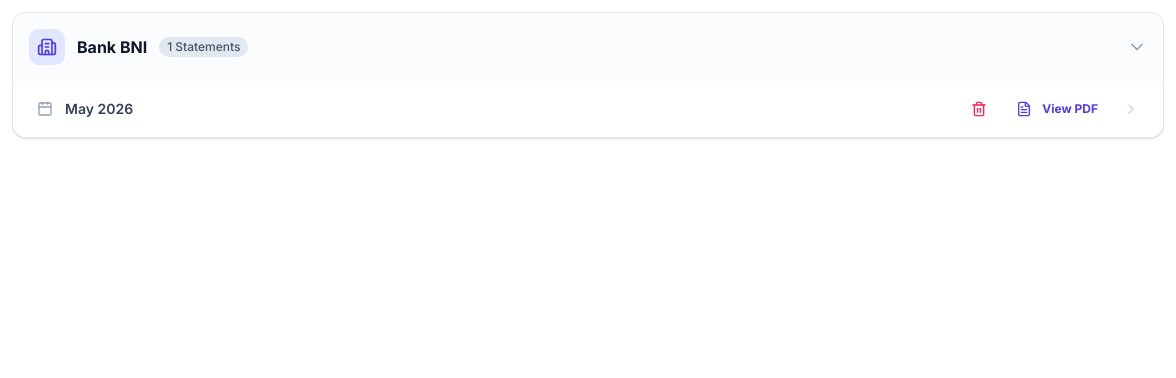
Test: BankStatementList Component › opens edit dialog when edit button is clicked
Check: the heading "Bank BNI" is shown, box x1=77 y1=35 x2=147 y2=59
Check: the text "May 2026" is shown, box x1=65 y1=99 x2=133 y2=119
// Expand the period to show items
What coordinates should you click on to do the following:
click the button "May 2026"
I would click on:
 (99, 108)
Its box is x1=37 y1=99 x2=963 y2=119.
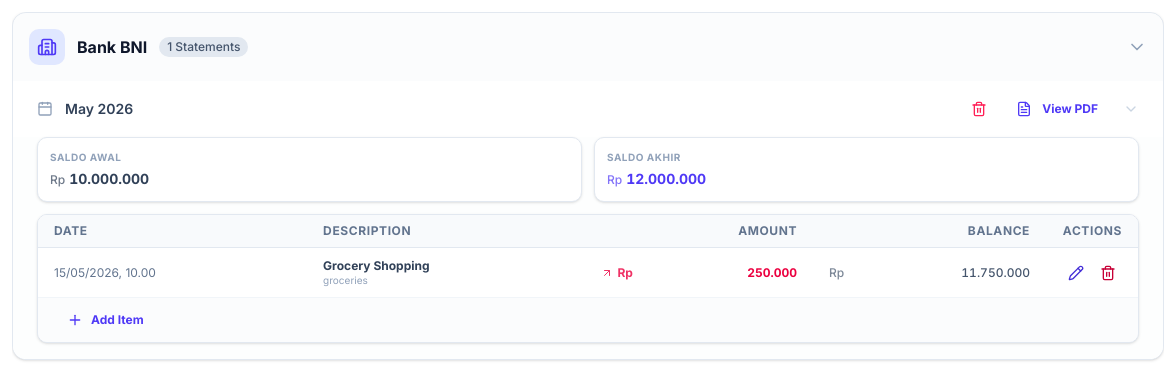
Check: the text "Grocery Shopping" is shown, box x1=323 y1=258 x2=430 y2=273
Check: the button named "Edit item" is shown, box x1=1062 y1=259 x2=1090 y2=287
